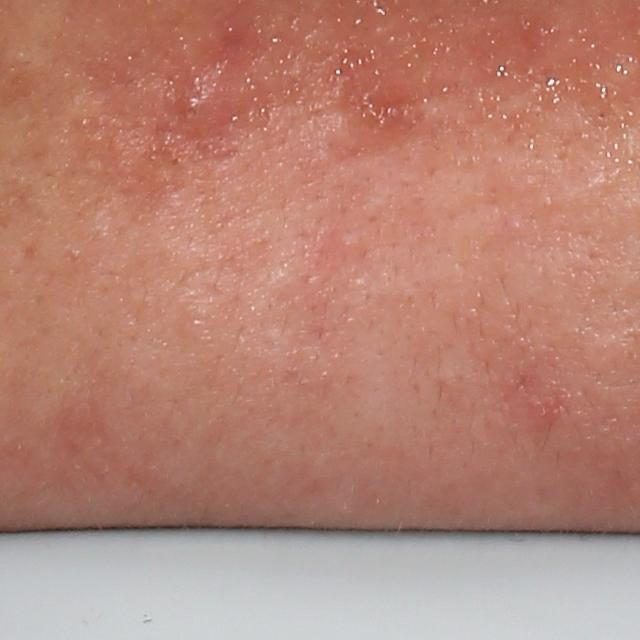papule: (164, 70, 236, 141)
